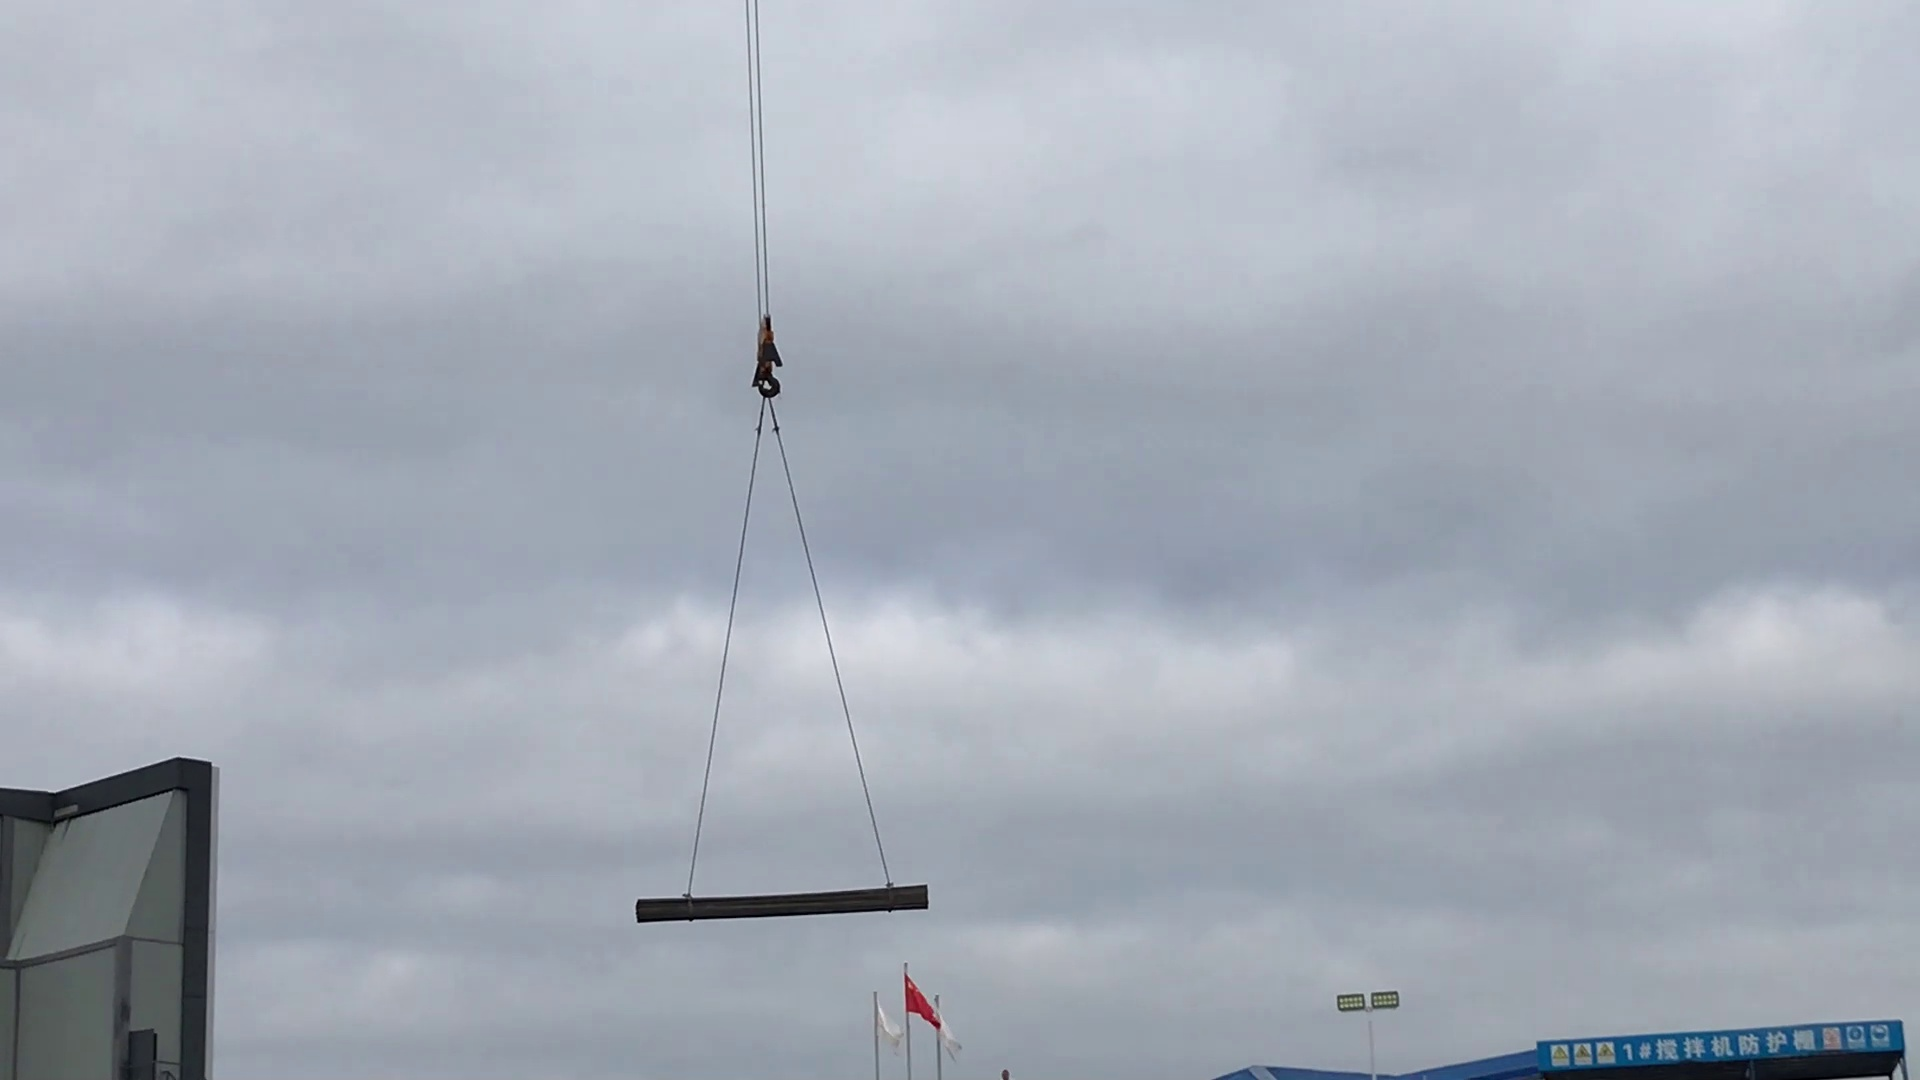hook: (742, 316, 796, 402)
rebar: (629, 874, 942, 940)
